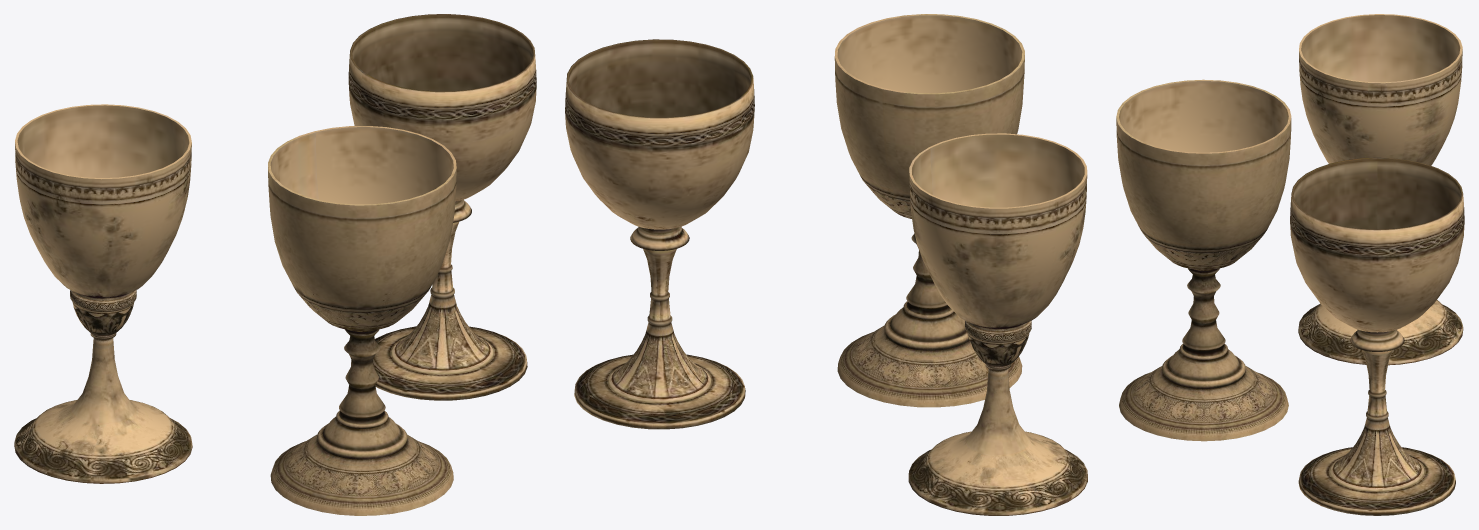
The model's file is ph_brass_goblets.glb.
3 renders of one model, left to right at view 1: azimuth 30°, elevation 25°; view 2: azimuth 150°, elevation 25°; view 3: azimuth 270°, elevation 25°, orthographic. The views are drawn at different scales.
Parts seen in each view (by area): view 1: brass_goblet_01; view 2: brass_goblet_01; view 3: brass_goblet_01.
Part boxes in pixels (box(x1,y1,x2,y2)): brass_goblet_01: box(14, 14, 536, 515); brass_goblet_01: box(565, 14, 1087, 515); brass_goblet_01: box(1116, 14, 1464, 515).
Bounding box in the file's own units: 0.4534 × 0.2734 × 0.2976.
3 materials, 3 textured.
